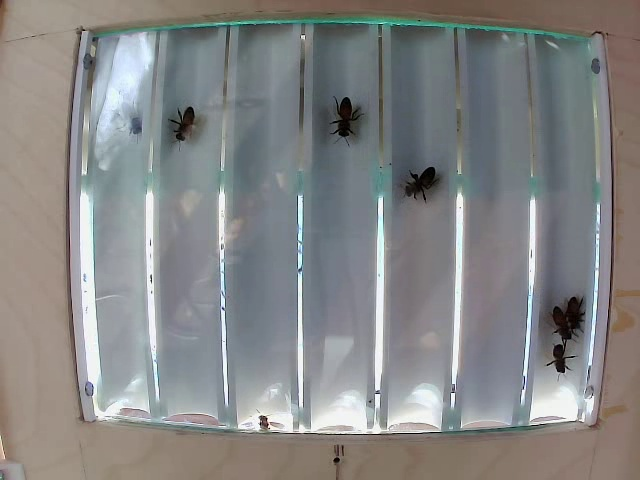bee: (404, 165, 446, 217), (156, 106, 204, 146), (336, 100, 366, 149), (545, 338, 573, 372), (551, 293, 569, 332), (574, 297, 585, 337)
